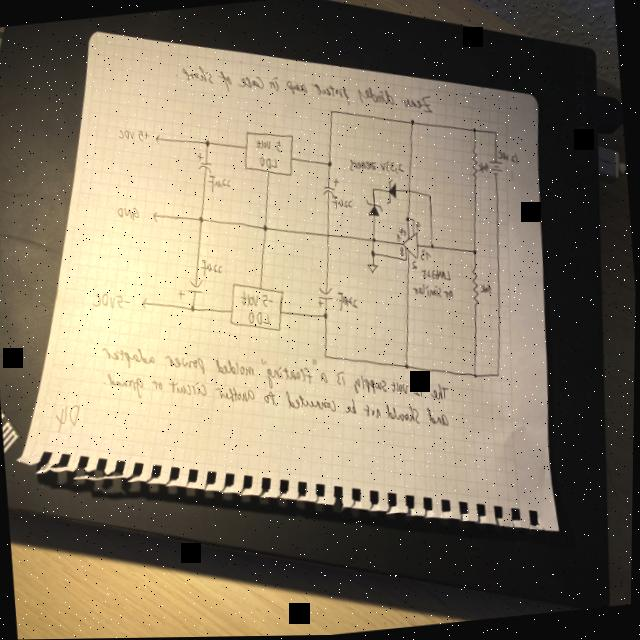capacitor: (177, 278, 205, 300), (195, 149, 215, 178), (319, 176, 341, 202), (317, 286, 337, 308)
crossover: (326, 233, 332, 239), (407, 189, 413, 195)
diode: (364, 198, 384, 223), (383, 179, 401, 206)
ground: (367, 262, 379, 275)
junction: (323, 352, 331, 362), (205, 139, 212, 147), (326, 161, 334, 168), (472, 249, 479, 257), (190, 305, 197, 313), (198, 216, 205, 224), (323, 312, 330, 320), (262, 224, 269, 232), (404, 363, 411, 371), (370, 250, 377, 258), (430, 243, 437, 250), (371, 237, 378, 244), (473, 372, 479, 380), (410, 119, 416, 126), (427, 193, 433, 200), (371, 187, 377, 194), (496, 373, 502, 379), (472, 128, 478, 134), (493, 131, 498, 137), (406, 217, 411, 223), (330, 110, 334, 114), (413, 219, 415, 223), (406, 259, 408, 262)
resistor: (470, 266, 482, 307), (469, 146, 481, 182)
source: (488, 161, 506, 182)
terminal: (141, 298, 150, 309), (153, 211, 160, 221), (154, 135, 161, 143)
text: (104, 337, 453, 462), (100, 310, 451, 434), (182, 42, 434, 139), (53, 402, 86, 436), (92, 288, 135, 312), (413, 281, 454, 303), (115, 123, 150, 148), (240, 288, 275, 310), (204, 171, 234, 195), (421, 266, 453, 285), (336, 289, 360, 314), (496, 149, 522, 171), (115, 204, 141, 225), (380, 159, 405, 178), (349, 157, 378, 173), (331, 194, 355, 213), (256, 138, 282, 155), (201, 259, 224, 276), (249, 311, 271, 327), (260, 155, 278, 170), (480, 282, 493, 297), (419, 249, 432, 263), (479, 162, 490, 174), (411, 260, 419, 273), (399, 226, 408, 237), (416, 222, 421, 233), (400, 247, 405, 257), (397, 235, 403, 243)
